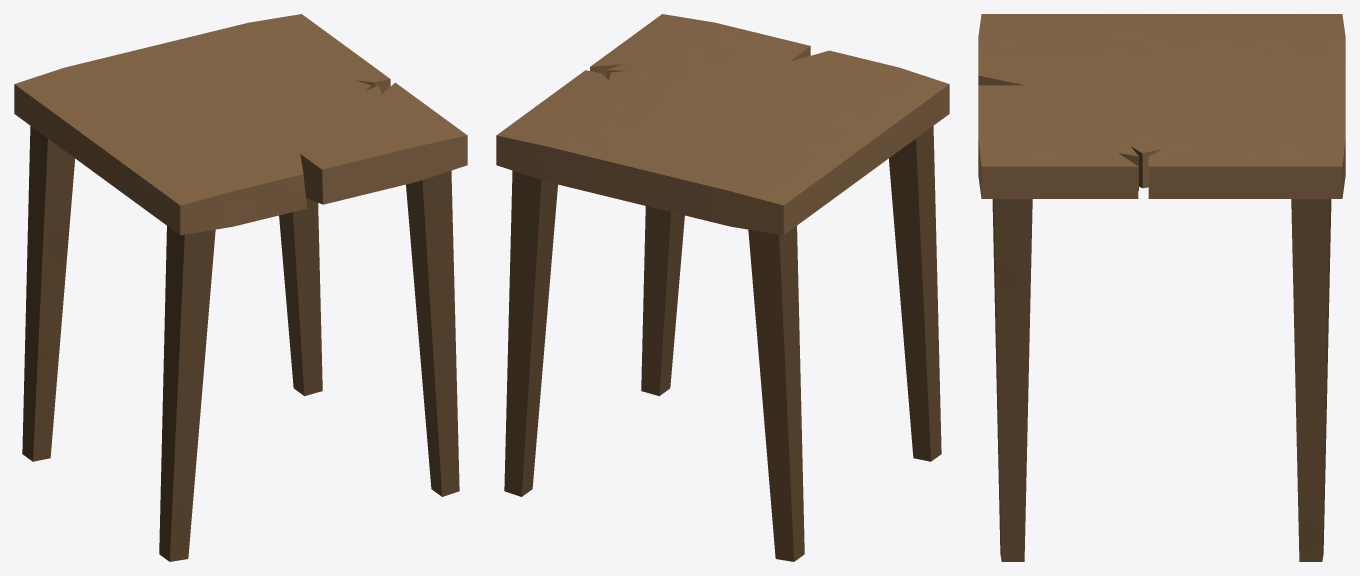
The model's file is Chair_01_03_Damaged.fbx.
The picture shows the model from 3 angles, left to right: view 1: azimuth 30°, elevation 25°; view 2: azimuth 150°, elevation 25°; view 3: azimuth 270°, elevation 25°; orthographic projection. The views are drawn at different scales.
Visible parts, largest first — view 1: Chair_01_03_Damaged; view 2: Chair_01_03_Damaged; view 3: Chair_01_03_Damaged.
Part boxes in pixels (bbox=[...]): Chair_01_03_Damaged: bbox=[14, 14, 467, 561]; Chair_01_03_Damaged: bbox=[496, 14, 949, 561]; Chair_01_03_Damaged: bbox=[978, 14, 1345, 561].
Size of the model in its own units: 0.4836 by 0.5845 by 0.4882.
